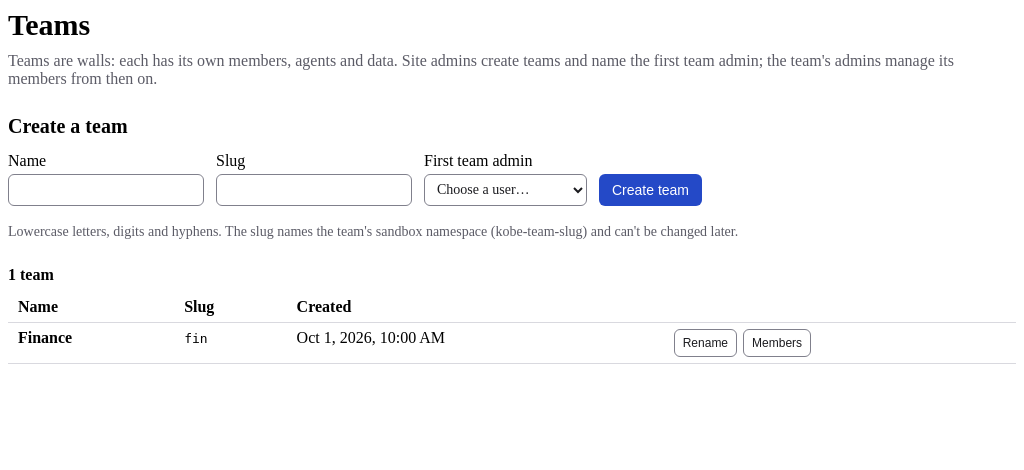
Test case: Teams › shows slug_taken and reads a roster
Type "Finance" into the field labelled "Name" at point(106, 190), box [8,174,204,206]
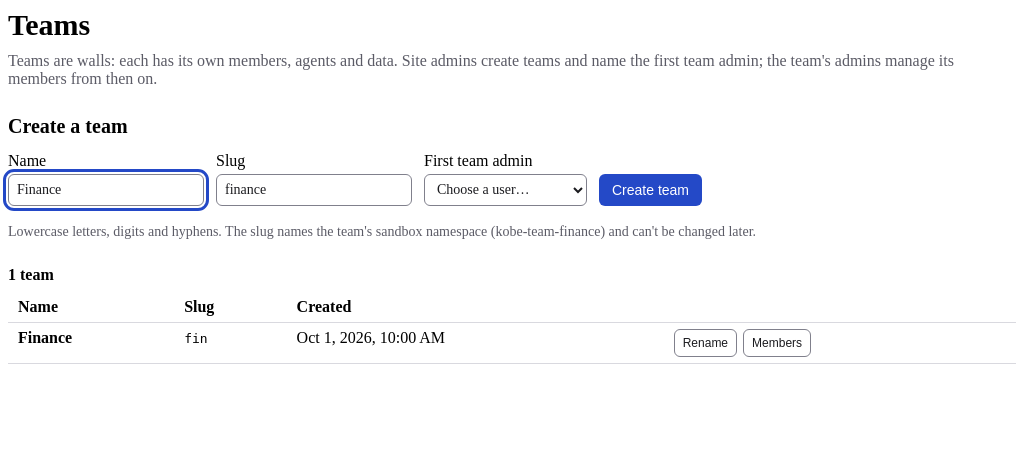
Select "Bob (u-bob@x.io)" in the dropdown labelled "First team admin" at point(506, 190), box [424,174,587,206]
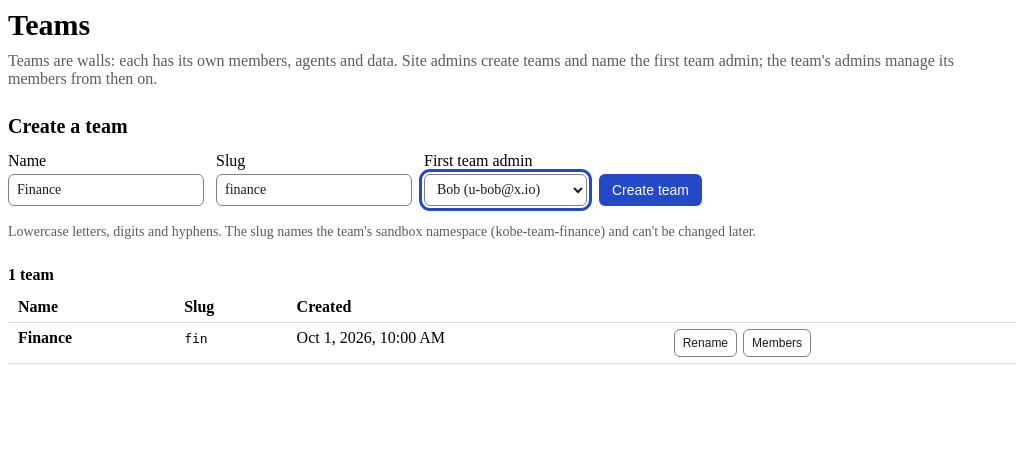
Click the button "Create team" at point(650, 190), box [599,174,702,206]
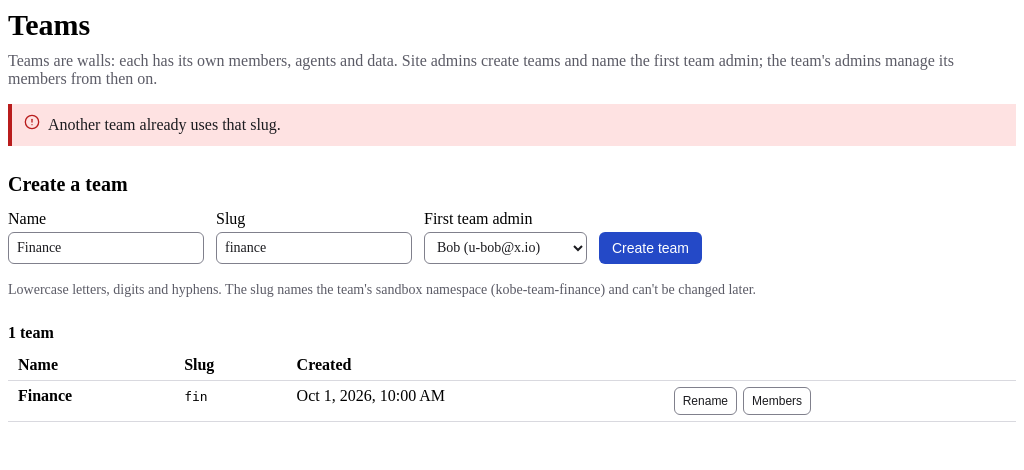
Result: the message shows "already uses that slug" at [48,116,281,132]
Click the button named "Members of Finance" at point(777, 400), box [743,386,811,414]
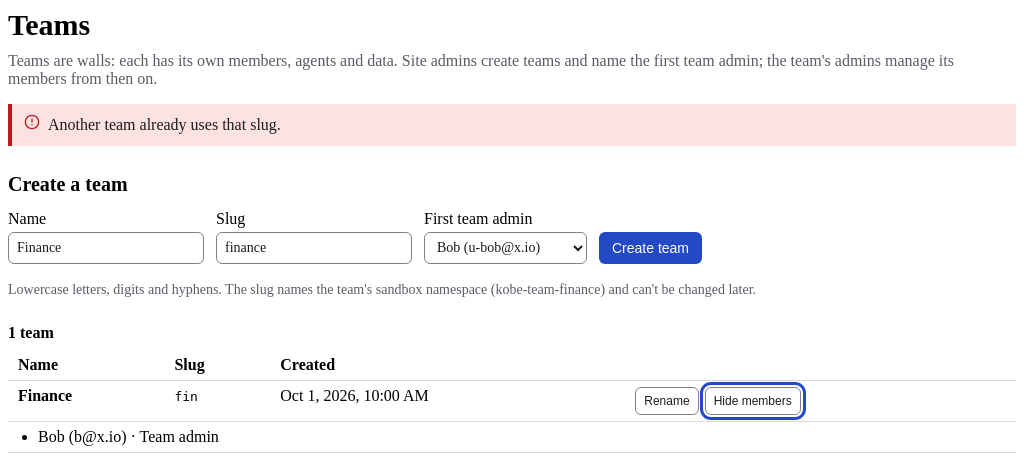
Result: the list named "Members of Finance" reads "Bob (b@x.io) · Team admin" at [38,428,219,444]
